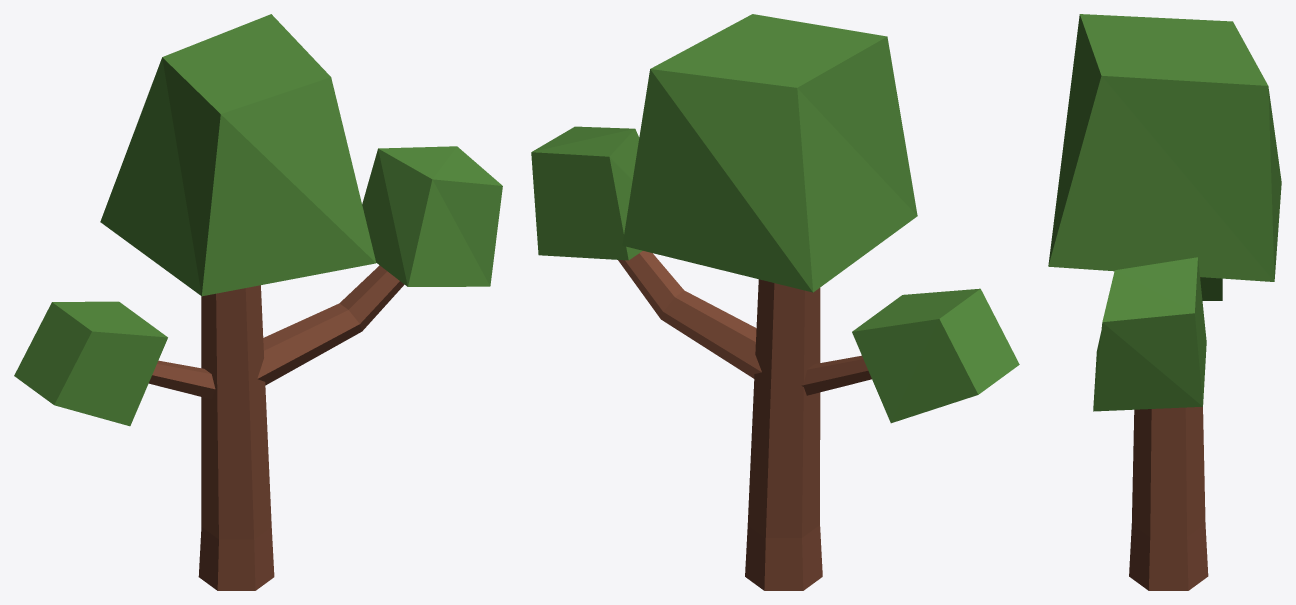
Rendered from Tree_44_summer_vc.fbx.
3 views of the same model, side by side, from view 1: azimuth 30°, elevation 25°; view 2: azimuth 150°, elevation 25°; view 3: azimuth 270°, elevation 25° (orthographic). The views are drawn at different scales.
Visible parts, largest first — view 1: Tree_44_summer_vc; view 2: Tree_44_summer_vc; view 3: Tree_44_summer_vc.
Boxes of the visible parts, <box> form: Tree_44_summer_vc: <box>14,14,502,590</box>; Tree_44_summer_vc: <box>531,14,1019,590</box>; Tree_44_summer_vc: <box>1048,14,1281,590</box>.
Bounding box in the file's own units: 162 × 179 × 70.99.
